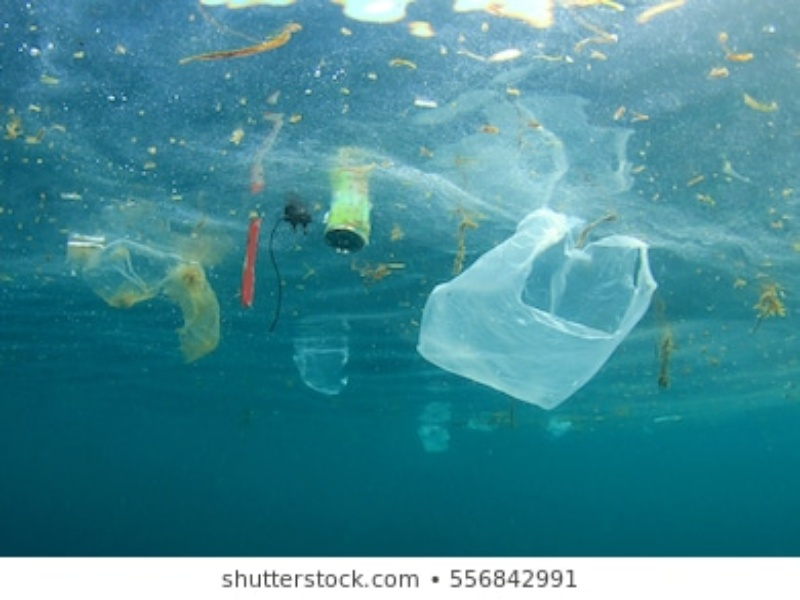plastic-bag: (417, 205, 648, 413), (81, 242, 227, 358), (290, 343, 356, 400), (422, 427, 455, 455)
